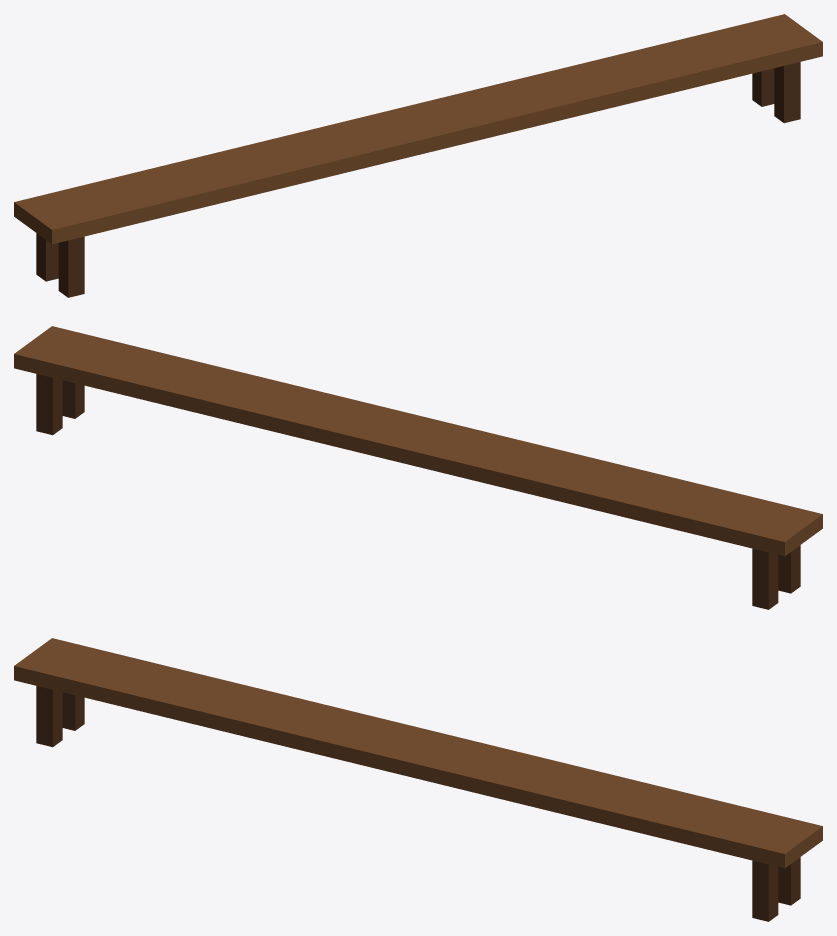
Rendered from ld-bench-long.glb.
3 views of the same model, one above another, from view 1: azimuth 30°, elevation 25°; view 2: azimuth 150°, elevation 25°; view 3: azimuth 330°, elevation 25° (orthographic).
Parts seen in each view (by area): view 1: box-prop; view 2: box-prop; view 3: box-prop.
Boxes of the visible parts, left/top/right/bottom form: box-prop: left=14, top=14, right=822, bottom=297; box-prop: left=14, top=326, right=822, bottom=609; box-prop: left=14, top=638, right=822, bottom=921.
Size of the model in its own units: 5.6 by 0.52 by 0.48.
